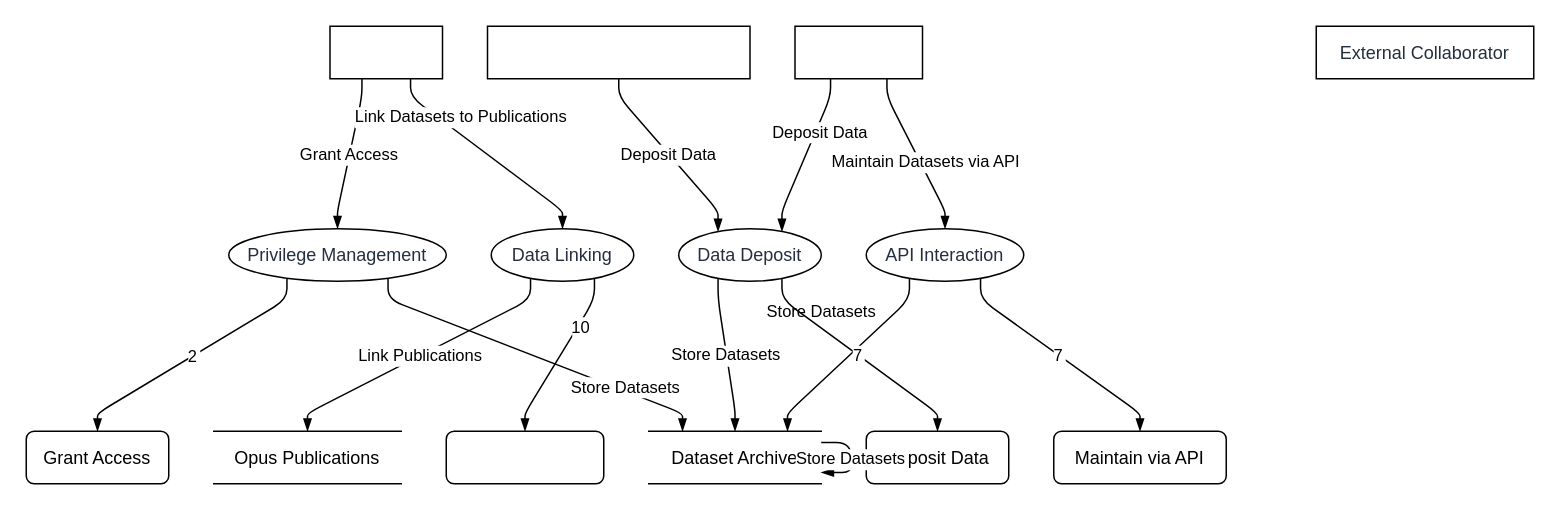
Some shapes in this 1560 by 512 pixel diagram are drawn without their labels. Each missing label, with the centre of its shape:
"Depositor" goes at (x=385, y=52).
"Developer" goes at (x=858, y=52).
"Link Datasets" goes at (x=524, y=457).
"Research Facility Manager" goes at (x=618, y=52).
